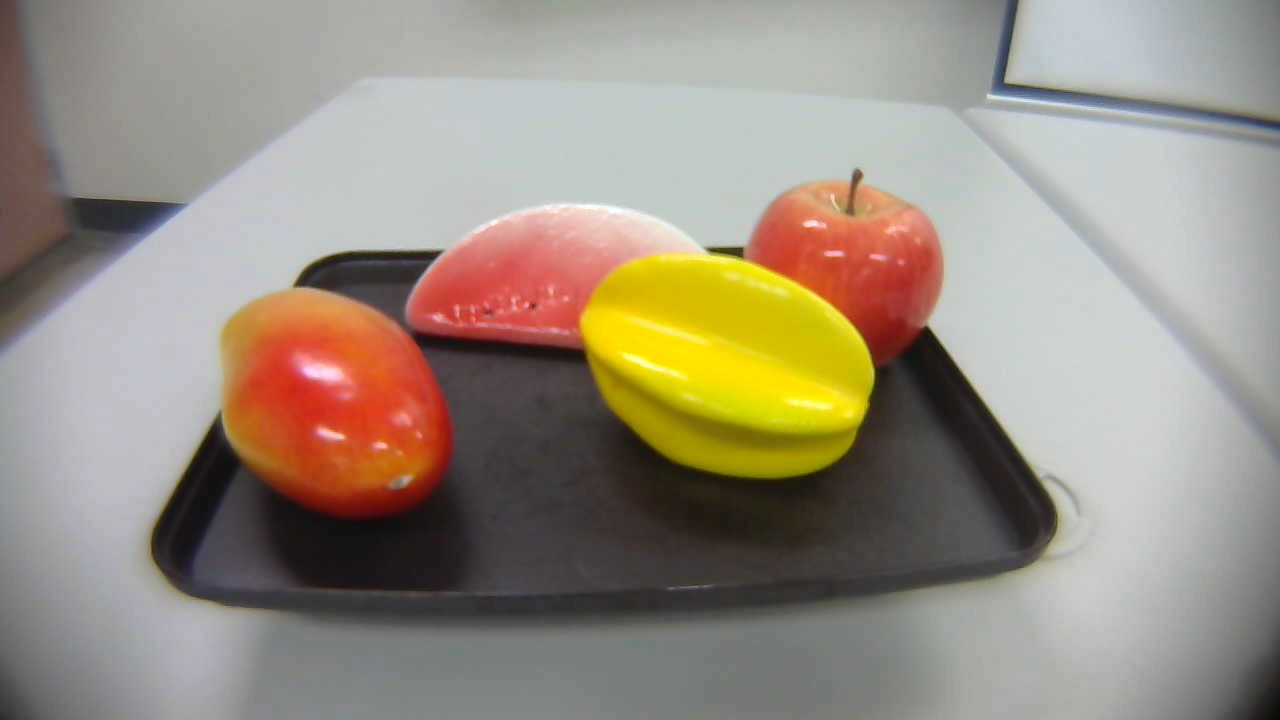red apple: (743, 169, 947, 366)
red mango: (207, 278, 452, 523)
star fruit: (583, 253, 880, 481)
water melon: (397, 201, 728, 364)
